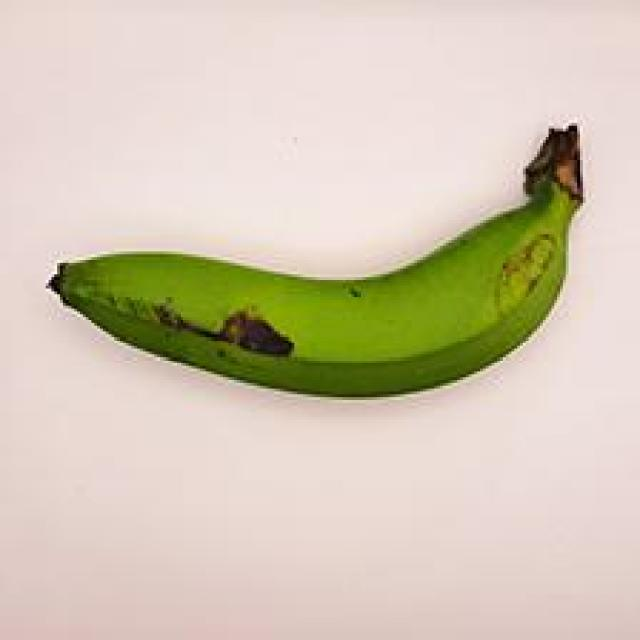Raw: (44, 108, 598, 427)
